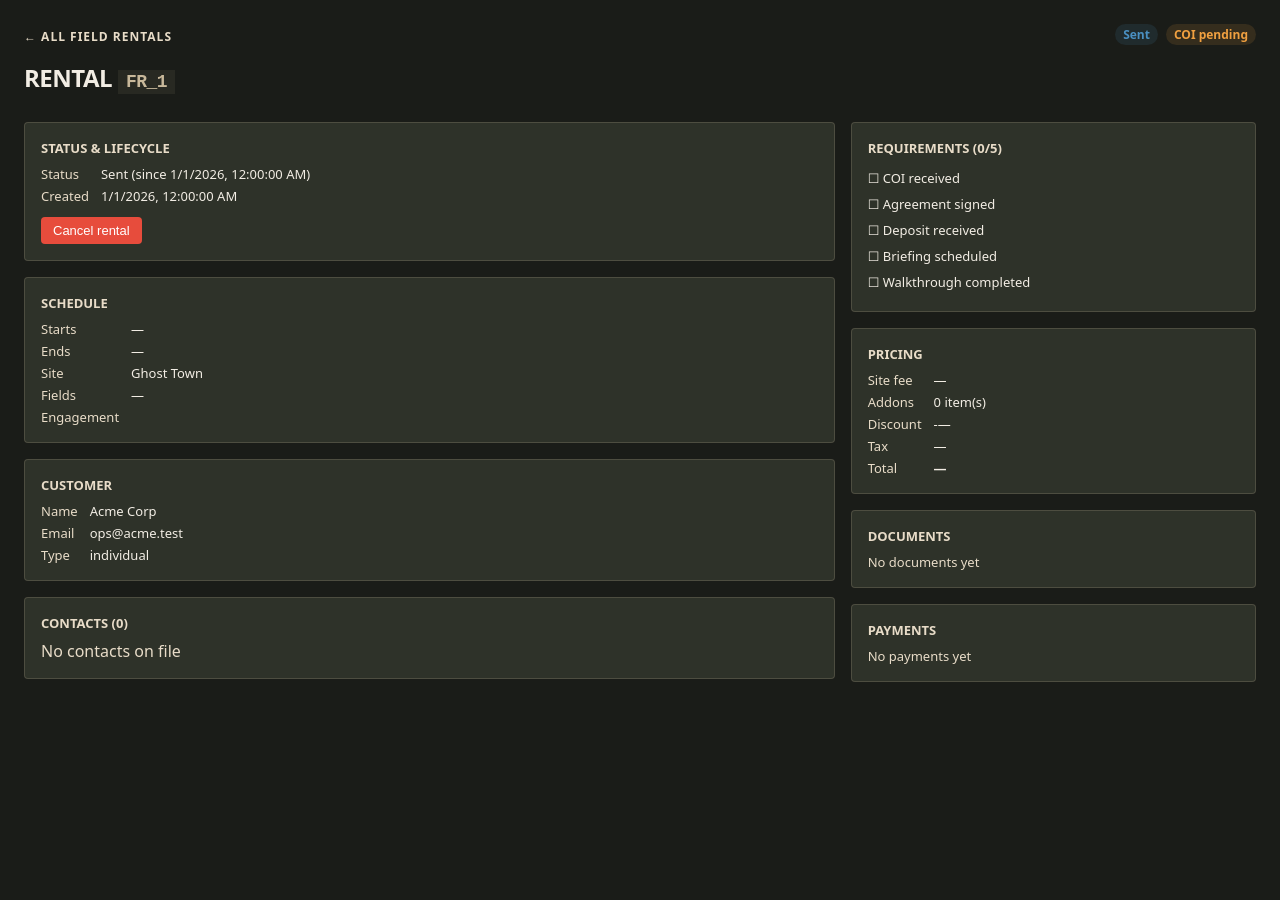
it: AdminFieldRentalDetail › opens the cancel-rental modal
This screenshot has width=1280, height=900.
Step 1. Click the button "Cancel rental" → x=91, y=230, box x1=41 y1=217 x2=142 y2=244
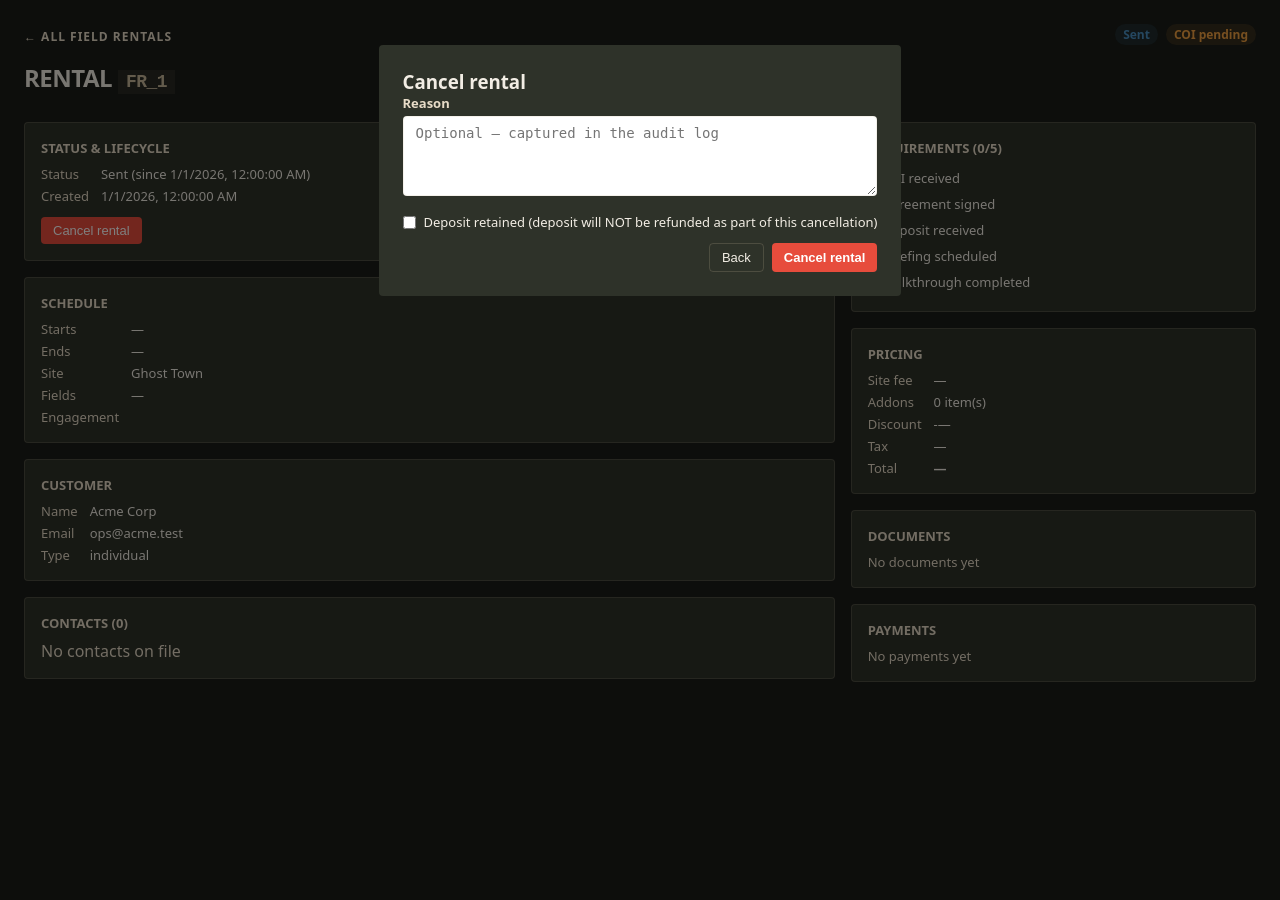
Now the heading "Cancel rental" is shown, box x1=402 y1=69 x2=526 y2=94
